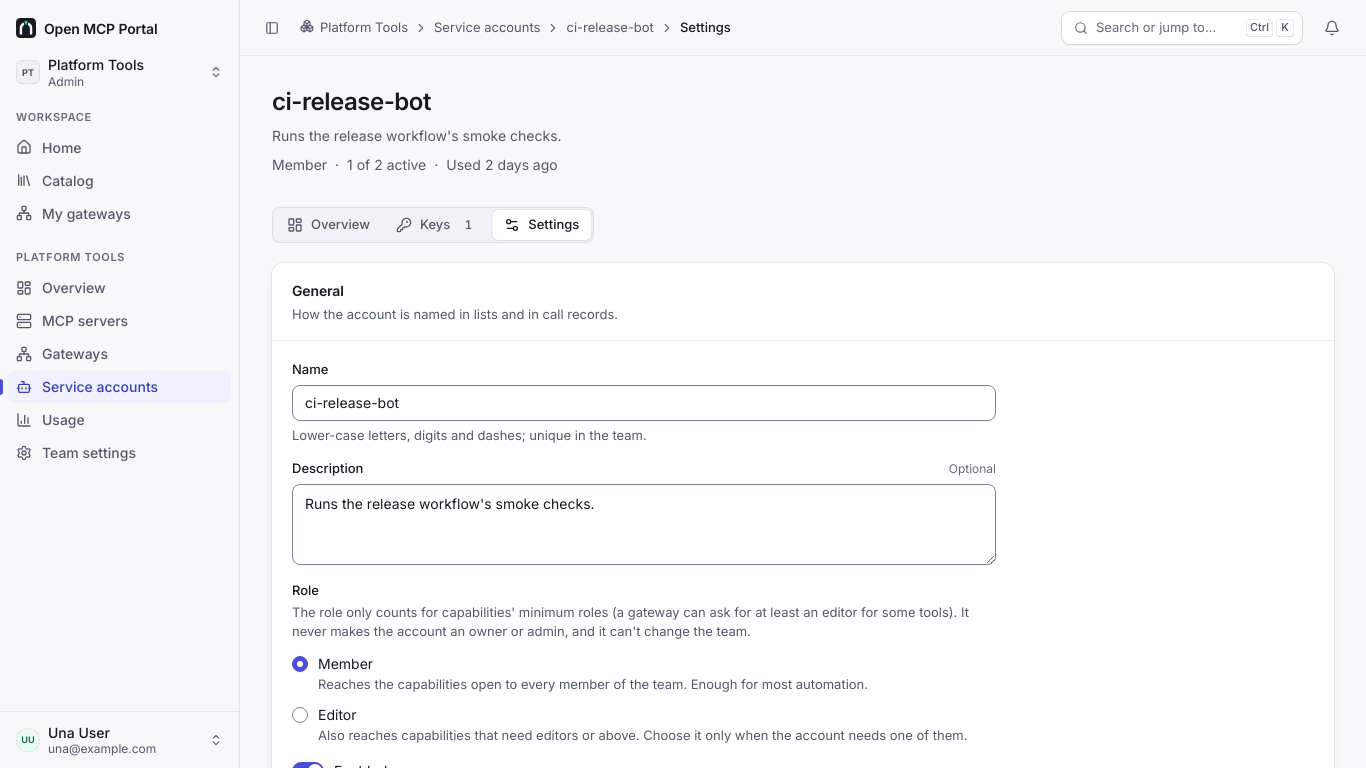
Service account › Settings › checks the name before saving
The image size is (1366, 768).
Replace the text in the field labelled "Name" with "Bad Name" at (644, 403), box [292,385,996,421]
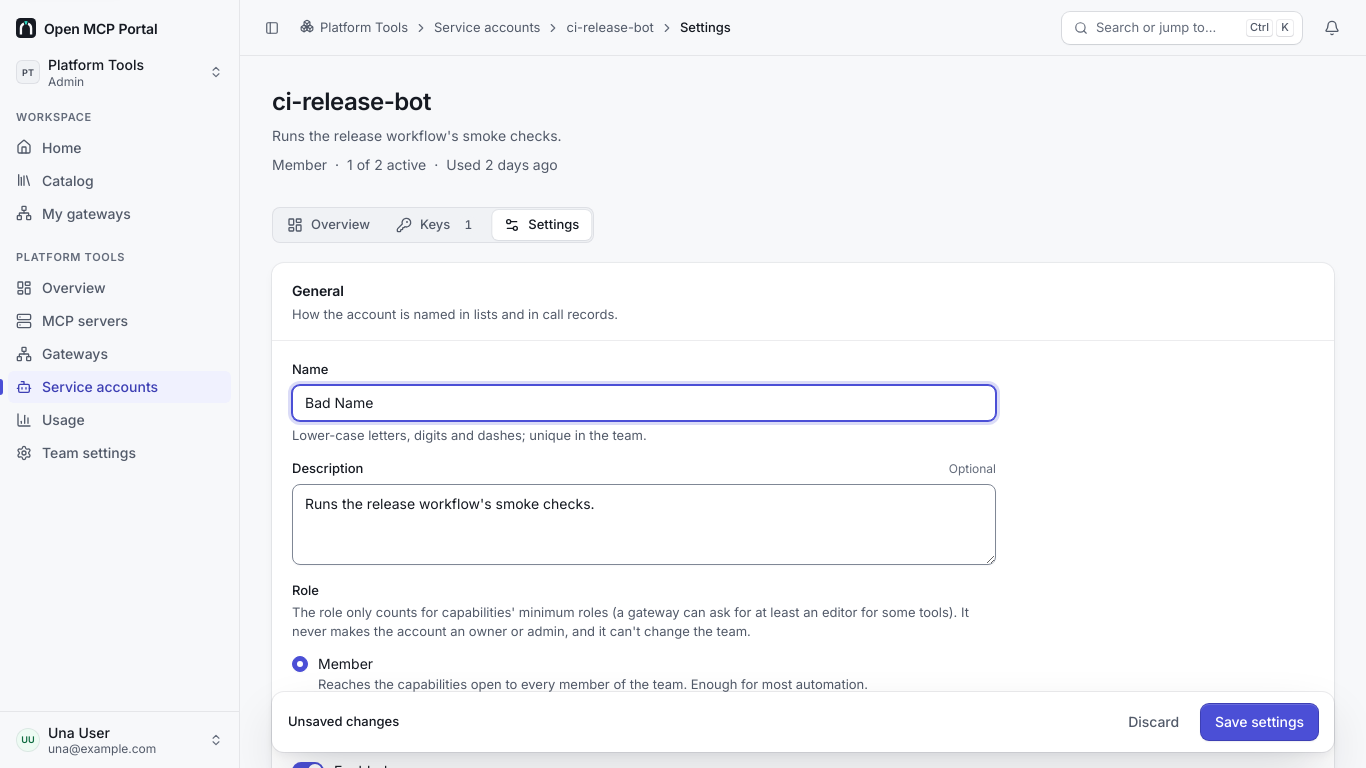
Click the button "Save settings" at (1260, 722), box [1201,704,1318,740]
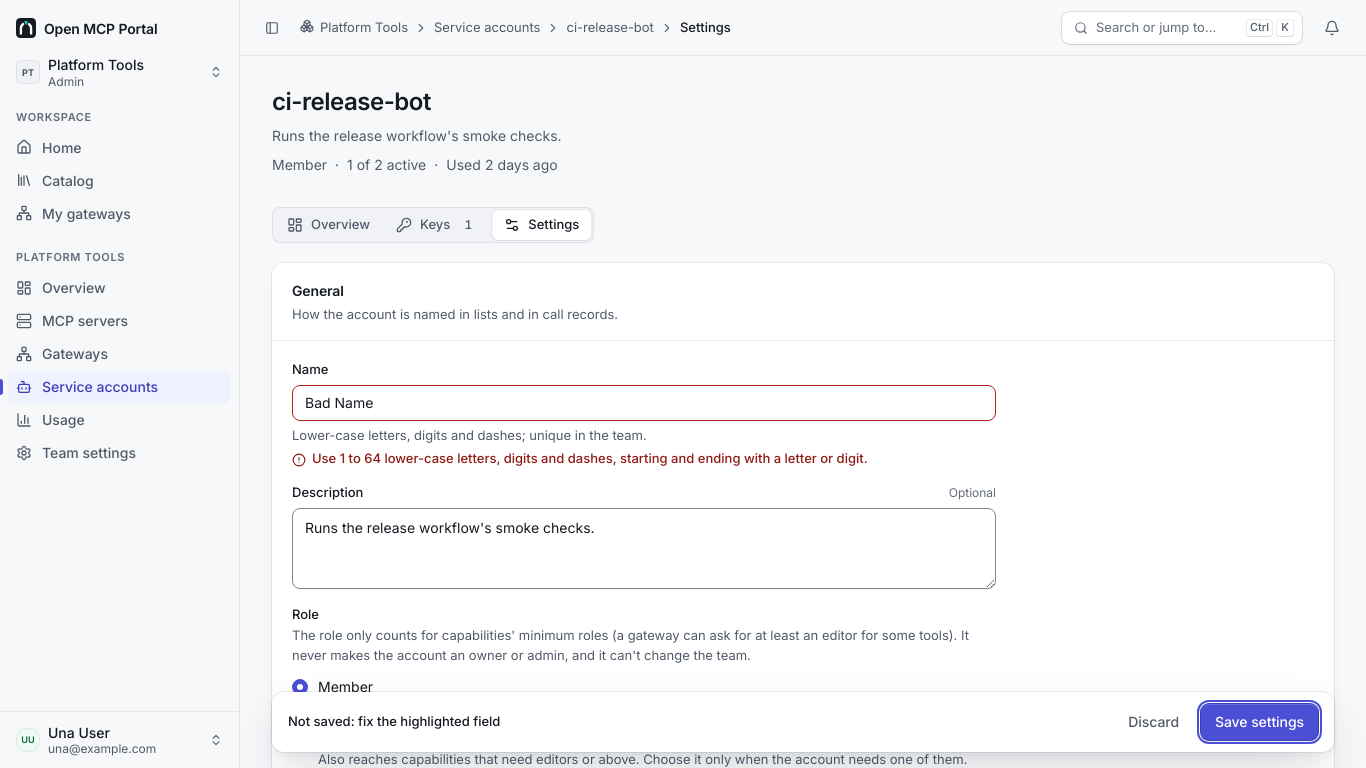
Now the text "Use 1 to 64 lower-case letters" is shown, box [312,450,868,466]
